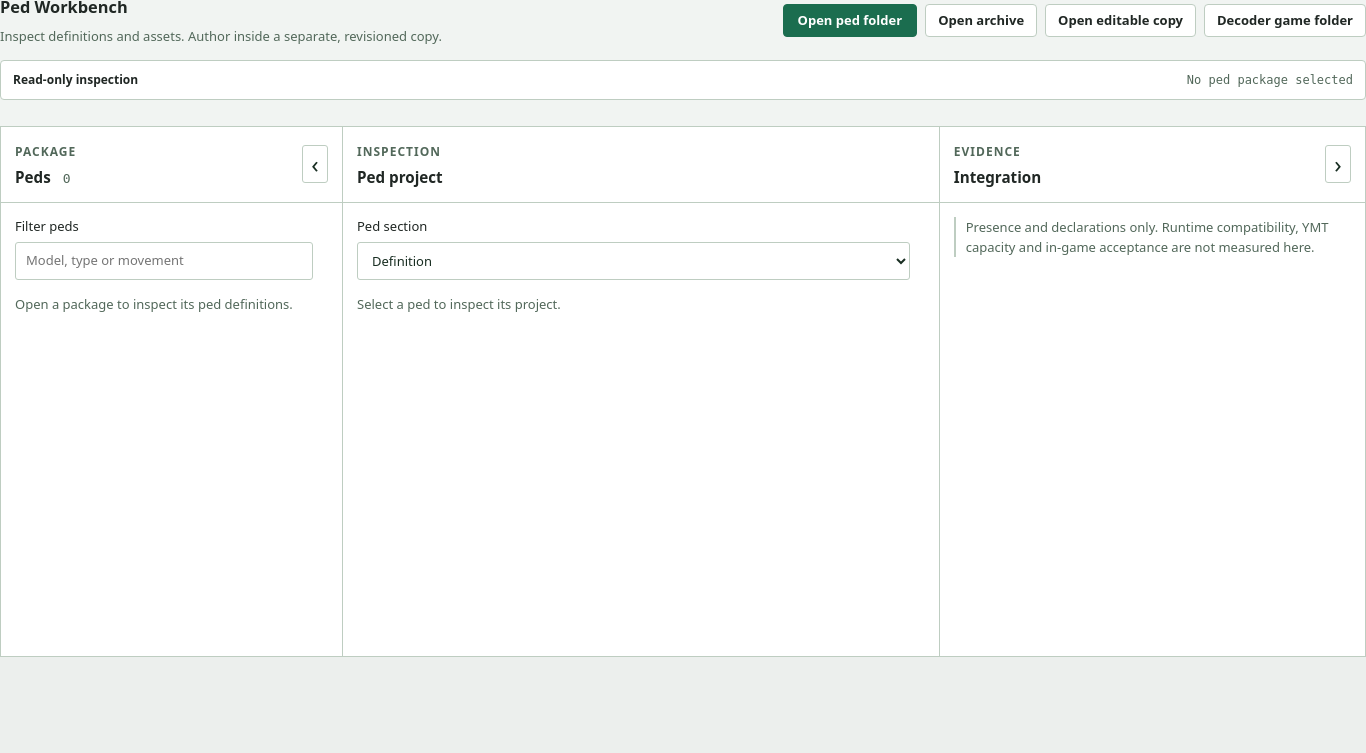
Test case: reviews a copied edit, guards navigation and requires action-time confirmation
Click the button "Open editable copy" at {"x": 1121, "y": 20}, box top-left (1045, 4), bottom-right (1196, 37)
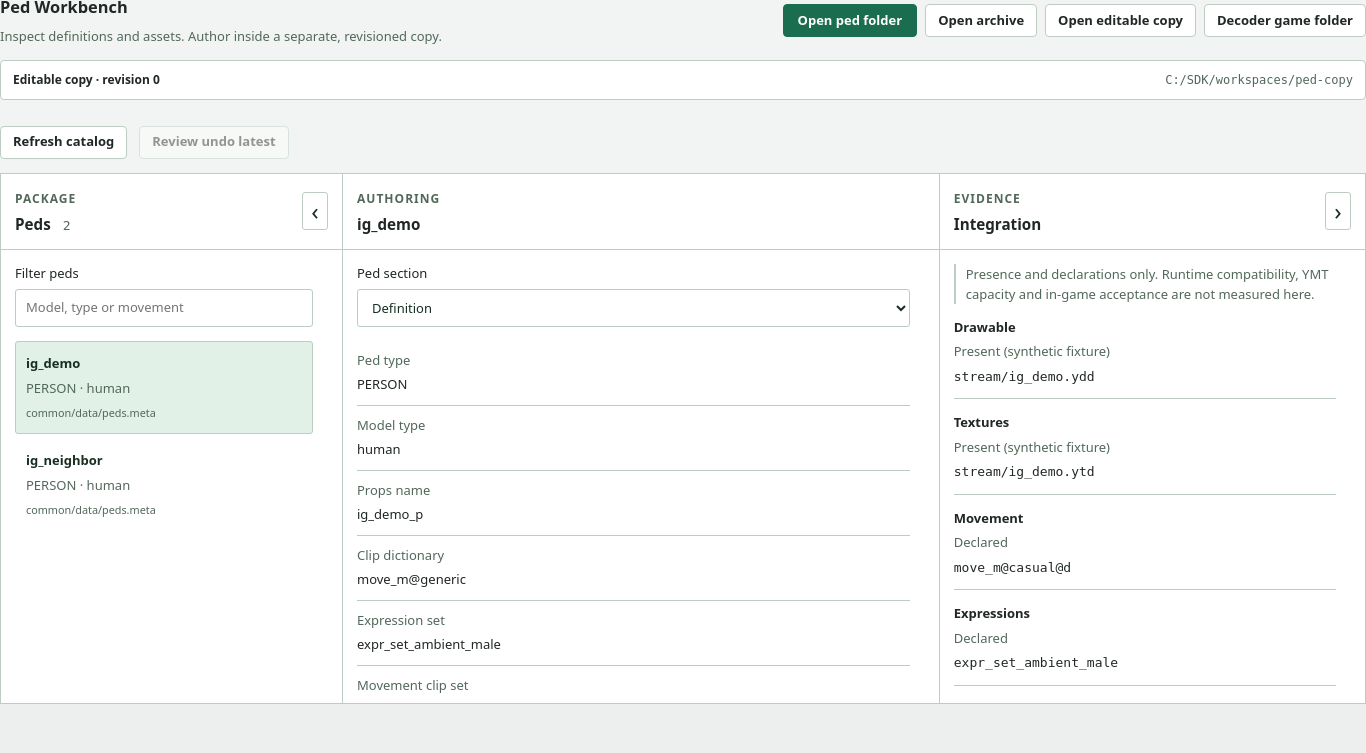
Now the text "Editable copy · revision 0" is shown, box top-left (13, 71), bottom-right (160, 89)
Select "Author fields" in the dropdown labelled "Ped section" at {"x": 633, "y": 308}, box top-left (357, 288), bottom-right (910, 326)
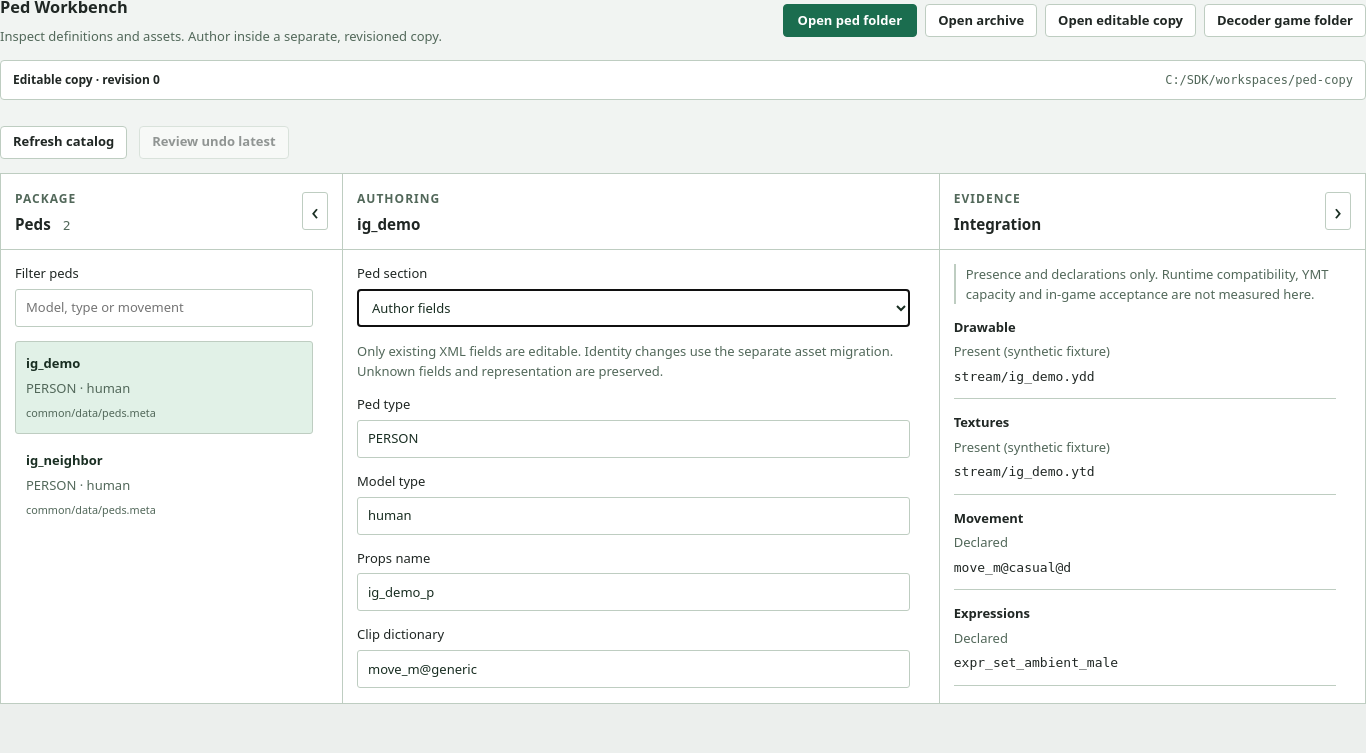
Replace the text in the field labelled "Model type" with "animal" at {"x": 633, "y": 516}, box top-left (357, 496), bottom-right (910, 534)
(page scrolled)
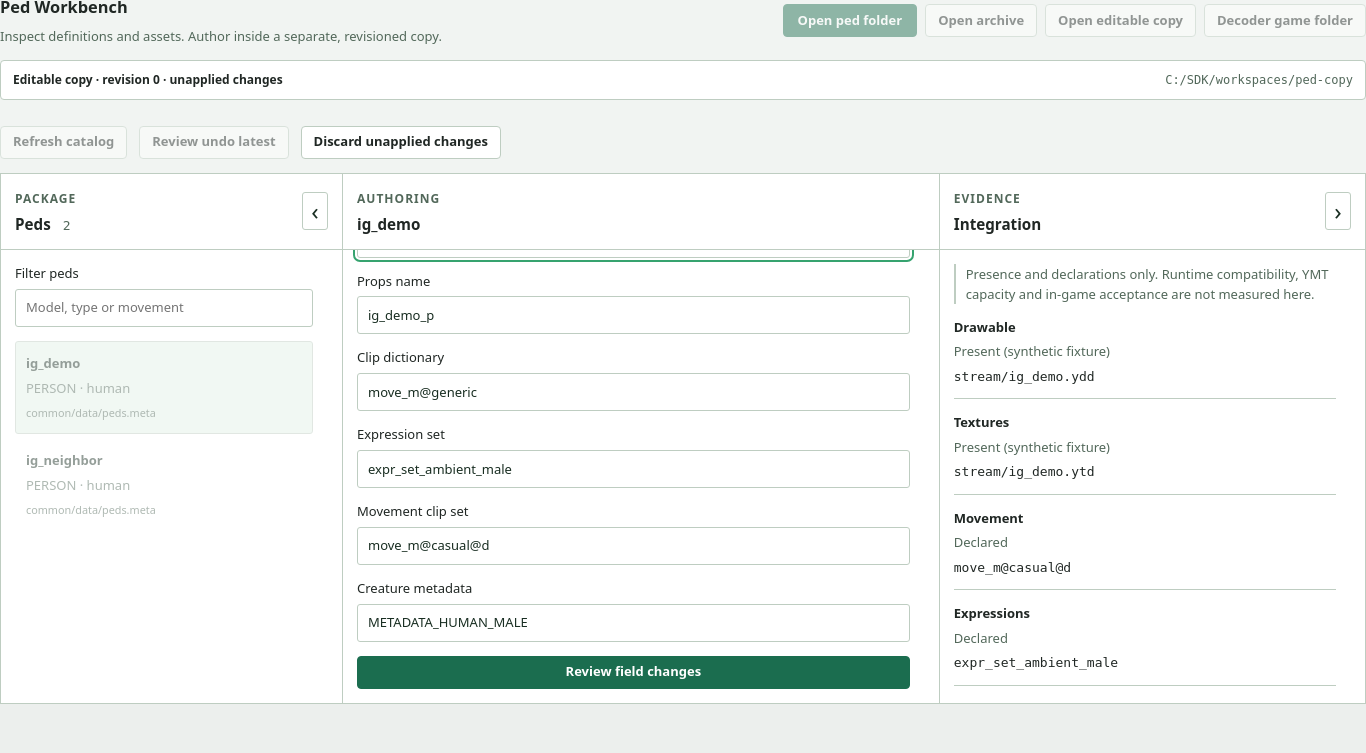
Now the button "Open ped folder" is disabled, box top-left (783, 4), bottom-right (917, 37)
Click the button "Review field changes" at {"x": 633, "y": 672}, box top-left (357, 656), bottom-right (910, 689)
(page scrolled)
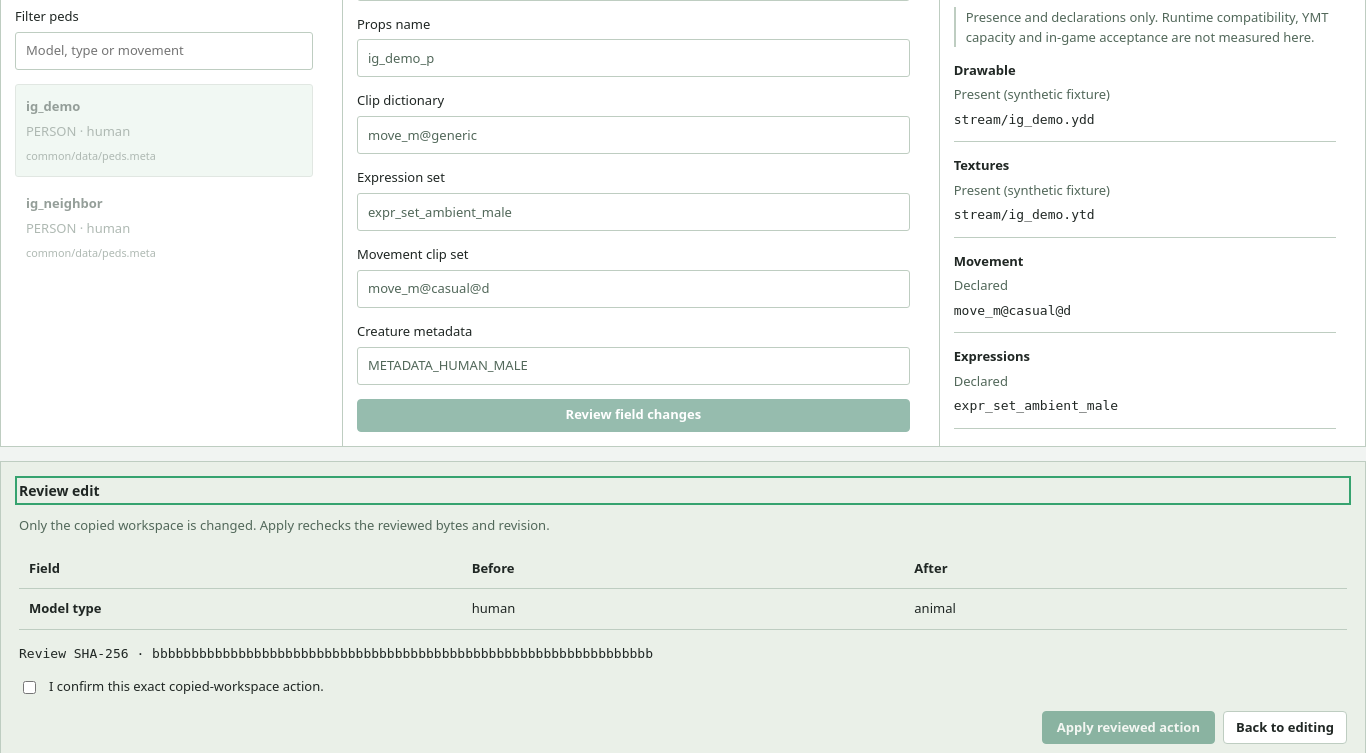
Now the button "Apply reviewed action" is disabled, box top-left (1042, 712), bottom-right (1215, 744)
Click the checkbox labelled "I confirm this exact copied-workspace action." at {"x": 30, "y": 688}, box top-left (23, 682), bottom-right (36, 694)
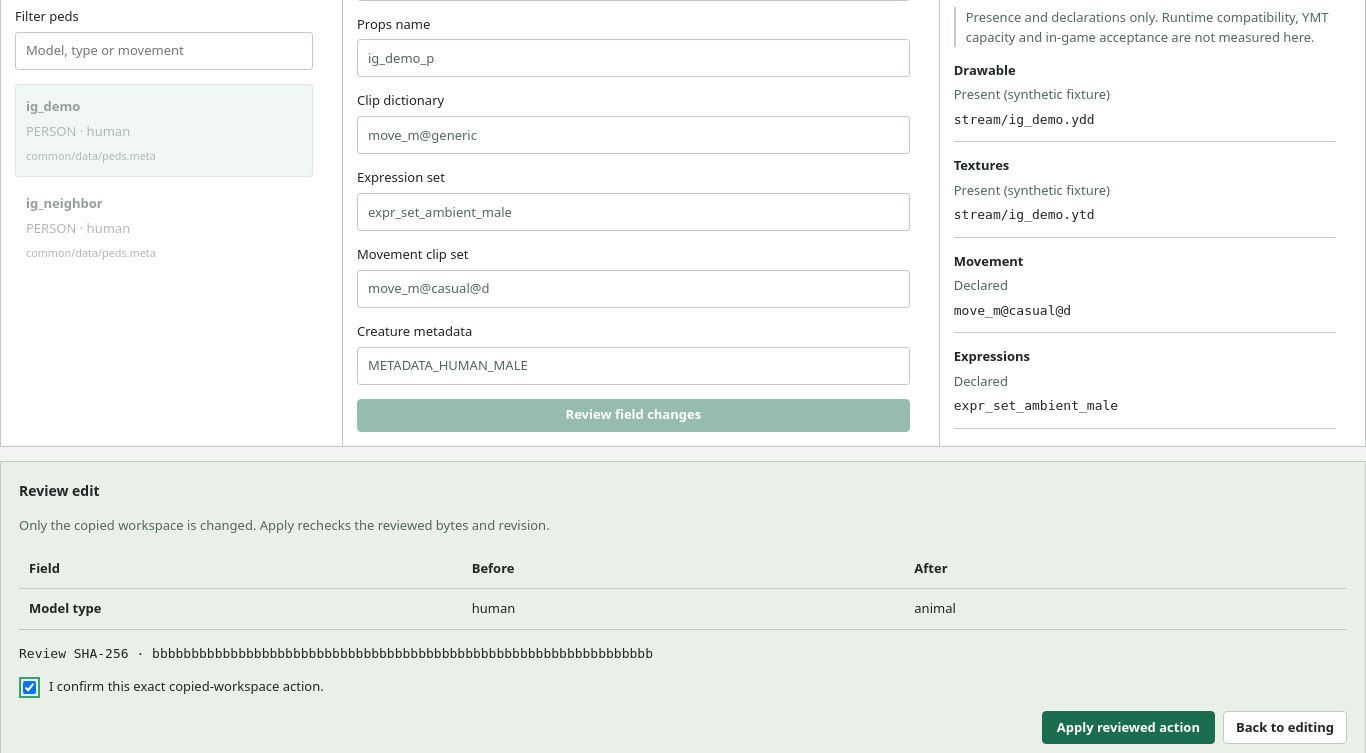
Click the button "Apply reviewed action" at {"x": 1128, "y": 728}, box top-left (1042, 712), bottom-right (1215, 744)
(page scrolled)
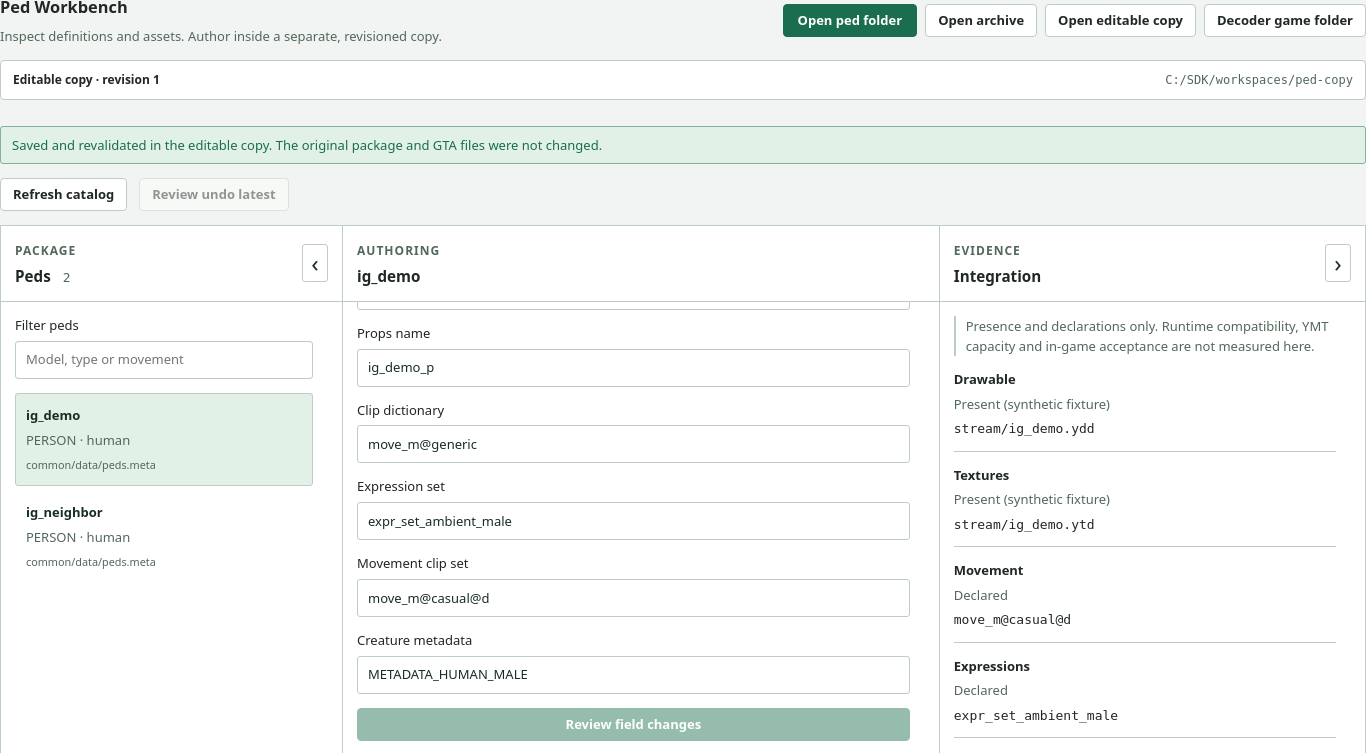
Now the text "Editable copy · revision 1" is shown, box top-left (13, 71), bottom-right (160, 89)
